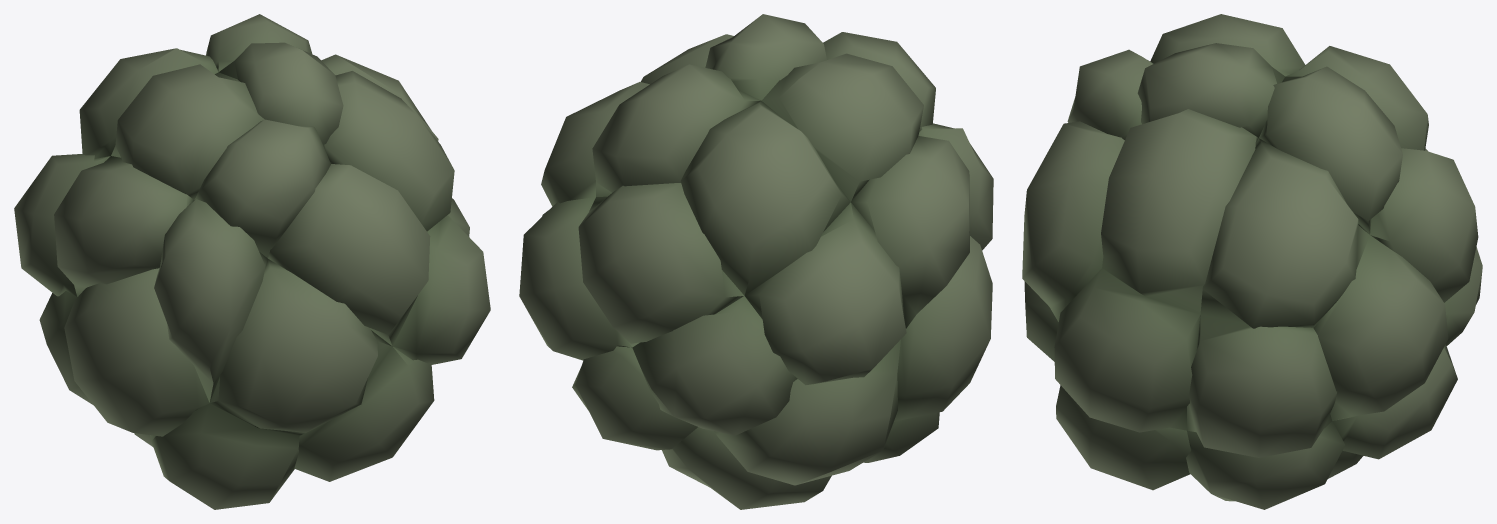
File: microscopic-protists-algae-colony_v1.glb
3 views of the same model, side by side, from view 1: azimuth 30°, elevation 25°; view 2: azimuth 150°, elevation 25°; view 3: azimuth 270°, elevation 25° (orthographic). The views are drawn at different scales.
Visible parts, largest first — view 1: Algae Colony_v1; view 2: Algae Colony_v1; view 3: Algae Colony_v1.
Part boxes in pixels (x1,y1,x2,y2): Algae Colony_v1: [14, 14, 490, 509]; Algae Colony_v1: [519, 14, 993, 509]; Algae Colony_v1: [1022, 14, 1482, 509].
Size of the model in its own units: 0.0973 by 0.1 by 0.0941.
